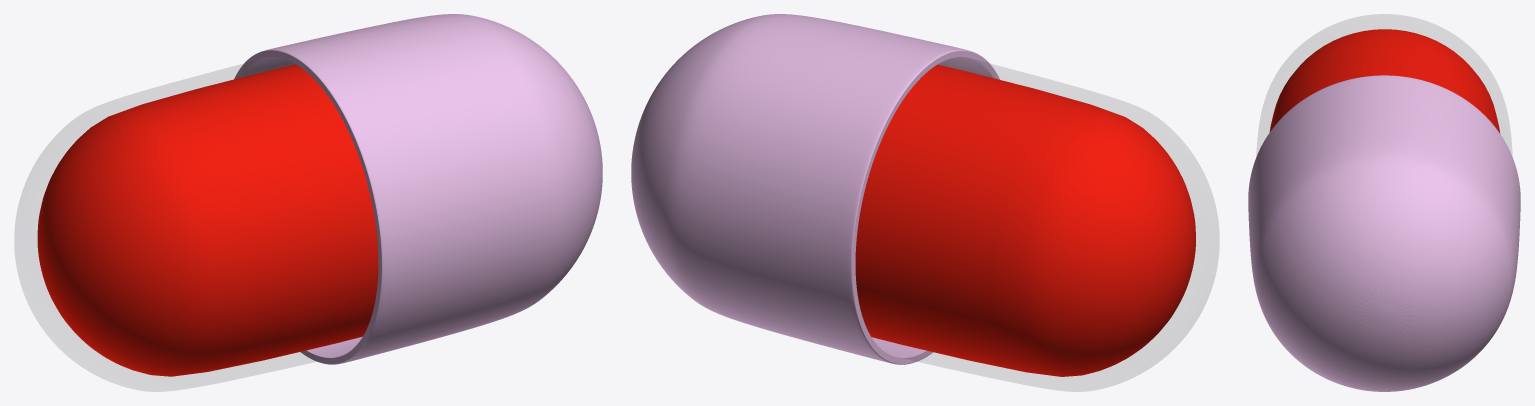
Rendered from kusuri.glb.
3 renders of one model, left to right at view 1: azimuth 30°, elevation 25°; view 2: azimuth 150°, elevation 25°; view 3: azimuth 270°, elevation 25°, orthographic. The views are drawn at different scales.
Visible parts, largest first — view 1: 球, 球.001; view 2: 球, 球.001; view 3: 球, 球.001.
Boxes of the visible parts, x1,y1,x2,y2 form: 球: (15,14,602,391); 球.001: (37,64,378,376); 球: (631,14,1218,391); 球.001: (855,64,1195,376); 球: (1248,14,1520,391); 球.001: (1269,29,1500,133).
Size of the model in its own units: 3.89 by 1.98 by 1.98.
Materials: 3 (1 with a texture image).
